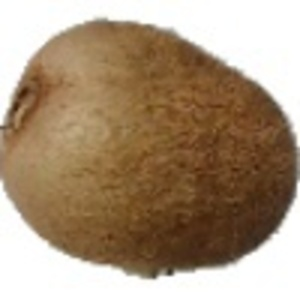kiwi: (1, 15, 300, 283)
